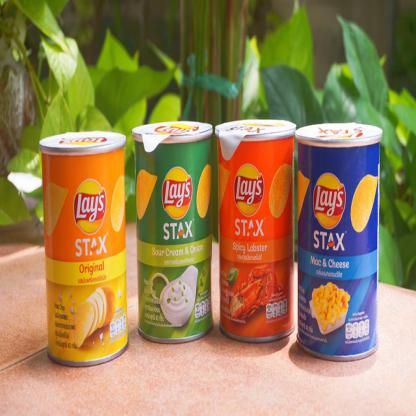potatochip: (36, 125, 132, 372), (291, 119, 384, 366), (211, 113, 301, 348), (130, 114, 218, 348)
